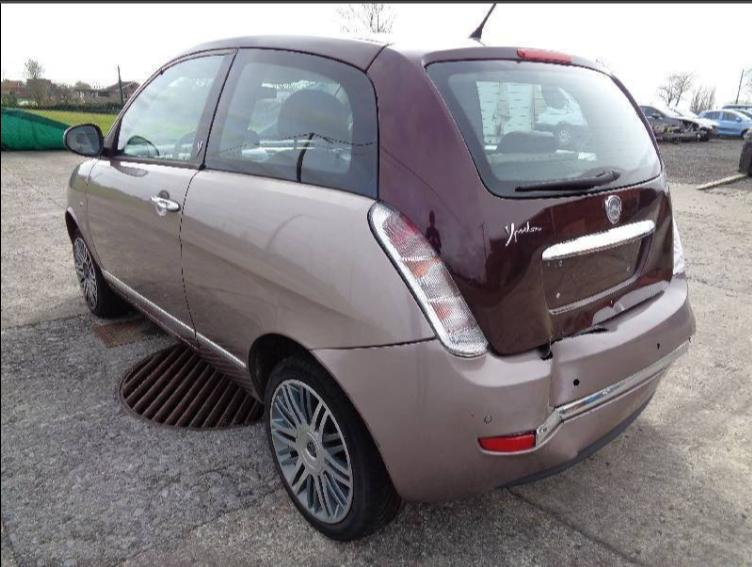Broken part: (531, 296, 699, 452), (534, 322, 629, 364), (325, 333, 440, 352)
Dent: (499, 188, 698, 458)
Paint chip: (572, 378, 582, 387), (657, 344, 661, 351)
